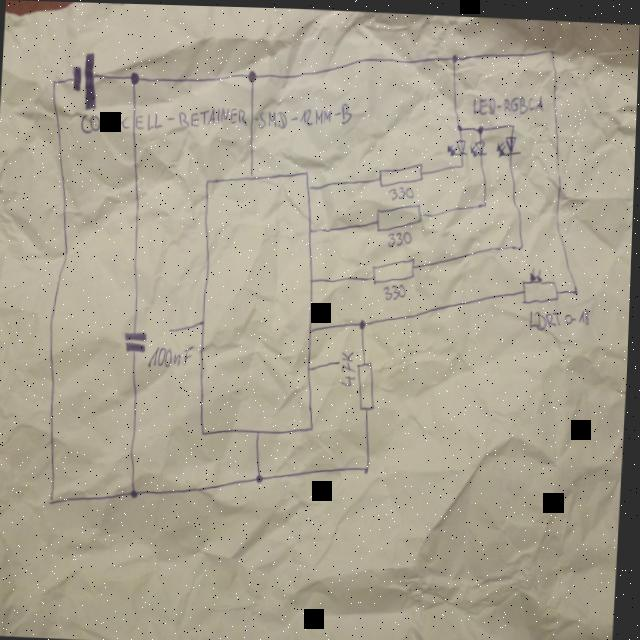capacitor: (124, 329, 150, 354)
diode: (495, 129, 525, 157), (451, 136, 471, 156), (470, 137, 488, 155)
junction: (244, 66, 259, 83), (129, 68, 141, 85), (132, 485, 141, 498), (360, 315, 368, 328), (475, 121, 485, 131), (258, 471, 267, 482), (450, 49, 458, 60), (365, 462, 373, 471), (51, 496, 58, 506), (51, 77, 58, 85), (457, 120, 464, 128), (548, 43, 555, 51), (573, 282, 580, 290), (482, 197, 489, 204), (509, 118, 515, 126), (519, 238, 525, 245), (459, 159, 465, 165)
resistor: (522, 261, 563, 303), (376, 197, 425, 231), (377, 156, 425, 186), (374, 251, 416, 282), (357, 358, 379, 408)
source: (67, 48, 100, 111)
text: (80, 87, 355, 145), (471, 89, 543, 113), (533, 302, 592, 328), (149, 339, 194, 369), (388, 180, 417, 200), (341, 350, 357, 386), (387, 226, 413, 246), (383, 279, 407, 299)
